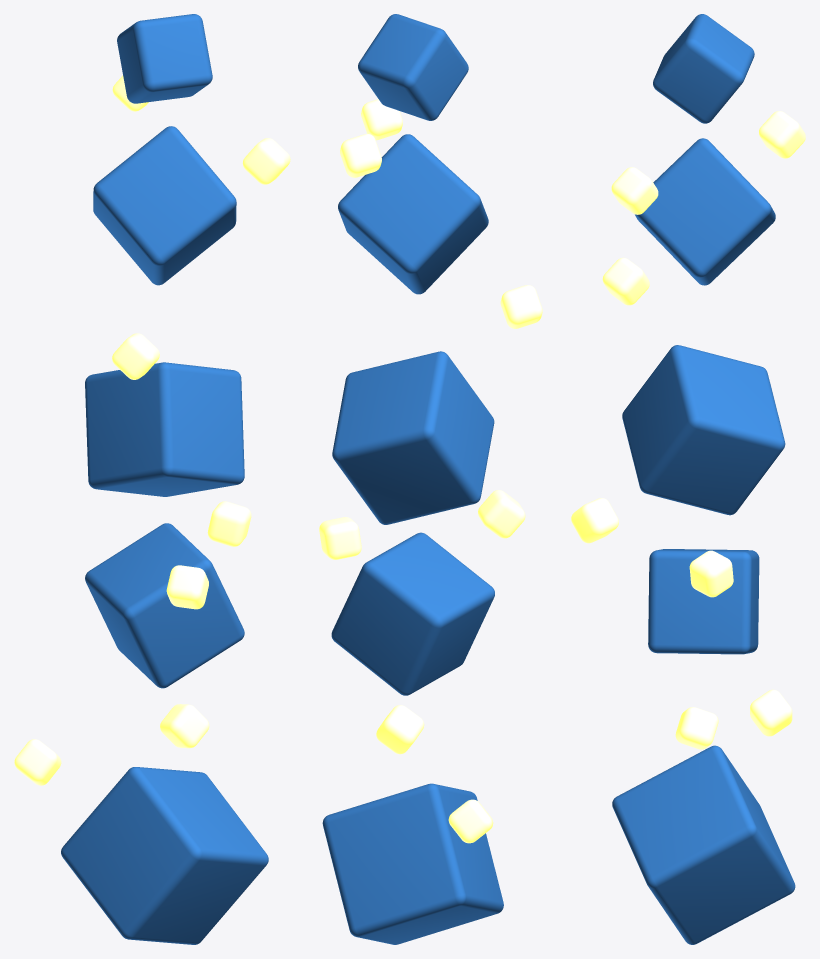
3 views of the same model, side by side, from view 1: azimuth 30°, elevation 25°; view 2: azimuth 150°, elevation 25°; view 3: azimuth 270°, elevation 25° (orthographic). The views are drawn at different scales.
Parts seen in each view (by area): view 1: Cube; view 2: Cube; view 3: Cube.
Part boxes in pixels (<box>): Cube: <box>14,14,290,944</box>; Cube: <box>319,14,542,944</box>; Cube: <box>571,14,805,944</box>.
Bounding box in the file's own units: 3.67 × 16.09 × 3.77.
